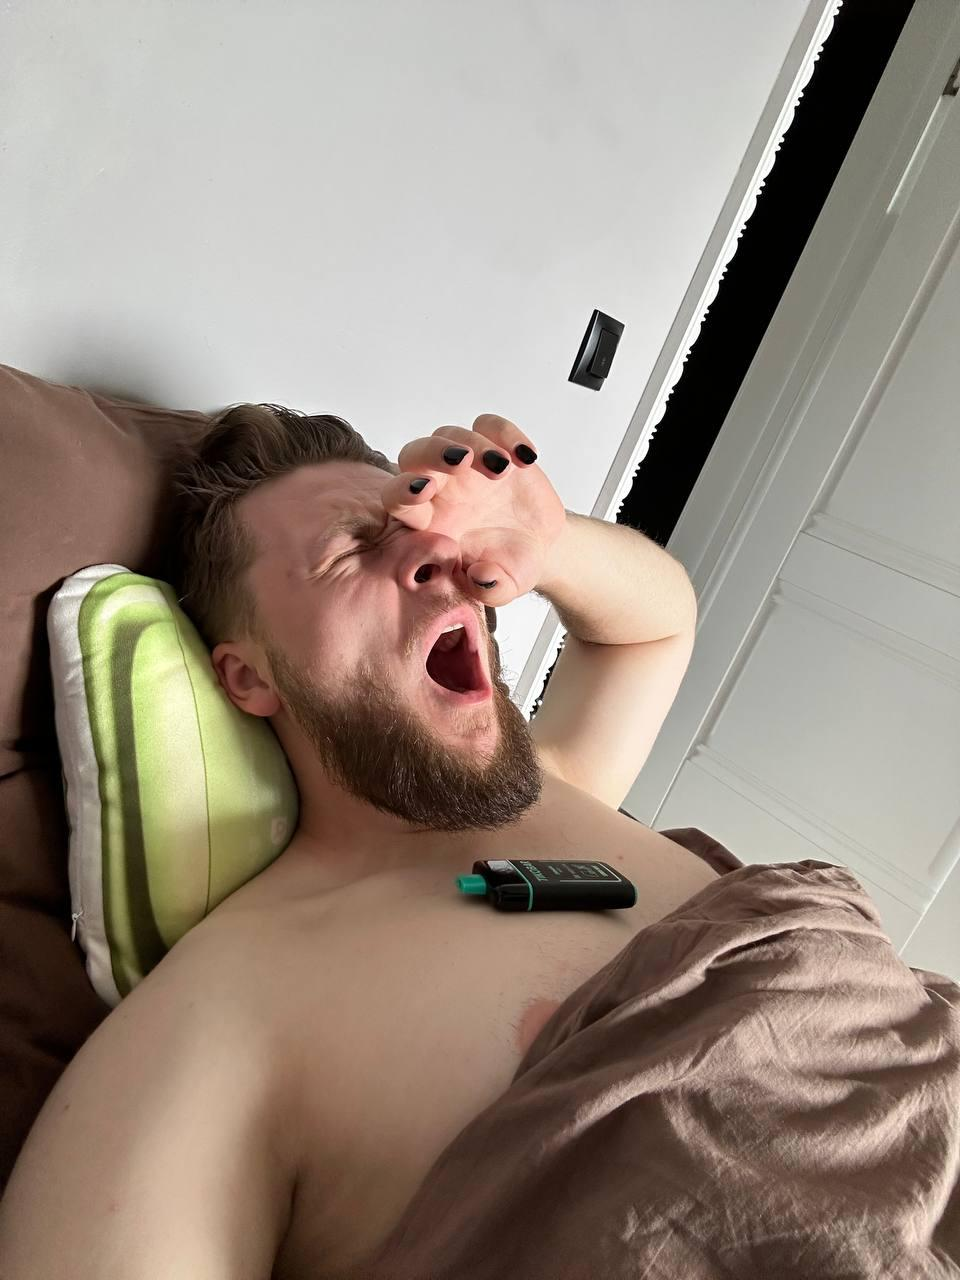Vape: (457, 860, 637, 912)
